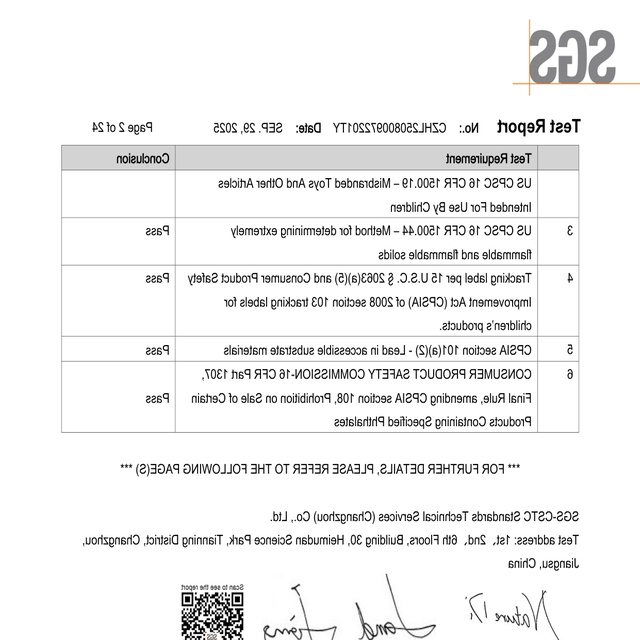sgs: (531, 29, 615, 83)
